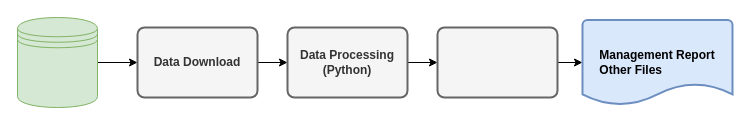
Some shapes in this 751 by 125 pixel diagram are drawn without their labels. The shapes that lost their labels are listed below. From the top down, each one's centre as x and y in pixels, then its label:
[57,62]: PIM SCADA SCDE
[497,62]: Data Analysis (Excel/VBA)
